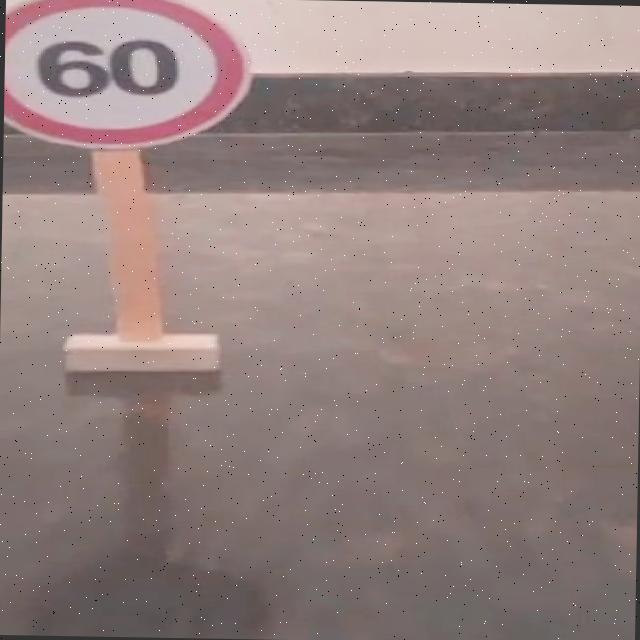Speed60: (2, 0, 267, 159)
